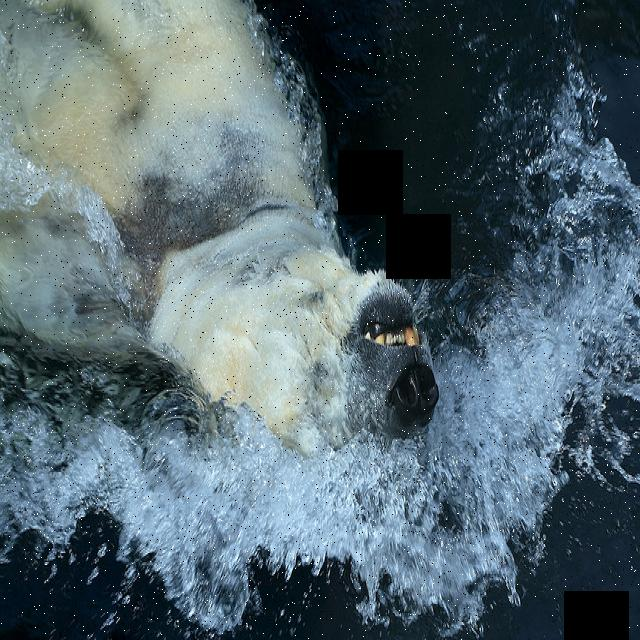Bear: (0, 0, 459, 465)
